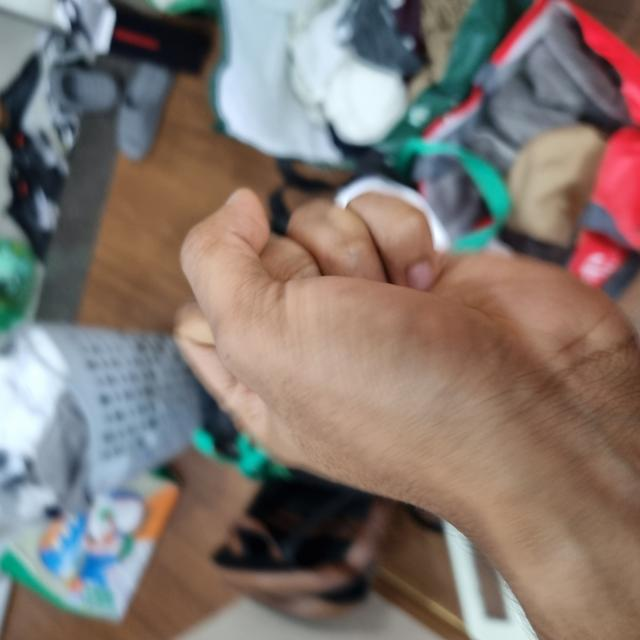Rock: (92, 177, 452, 640)
